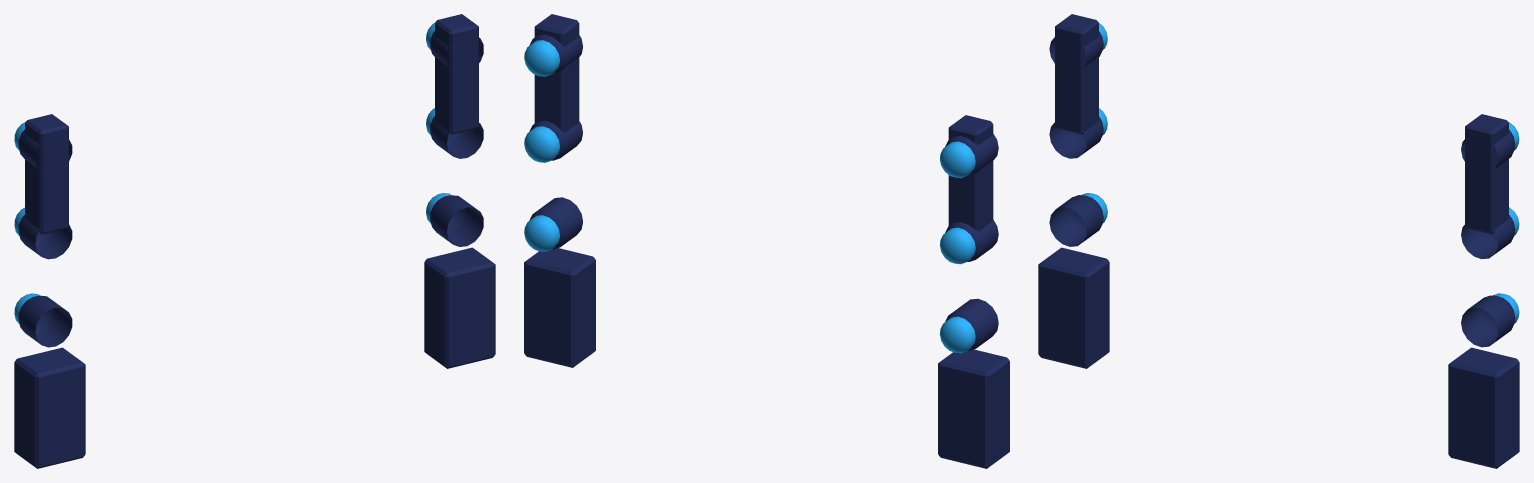
Rendered from 3D_GateSuper.fbx.
3 views of the same model, side by side, from view 1: azimuth 30°, elevation 25°; view 2: azimuth 150°, elevation 25°; view 3: azimuth 330°, elevation 25° (orthographic).
Visible parts, largest first — view 1: 3D_GateSuper; view 2: 3D_GateSuper; view 3: 3D_GateSuper.
Boxes of the visible parts, box(x1,y1,x2,y2) form: 3D_GateSuper: box(14, 14, 495, 468); 3D_GateSuper: box(524, 14, 1009, 468); 3D_GateSuper: box(1038, 14, 1519, 468).
Bounding box in the file's own units: 341 × 235 × 45.9.
Materials: 1 (1 with a texture image).
